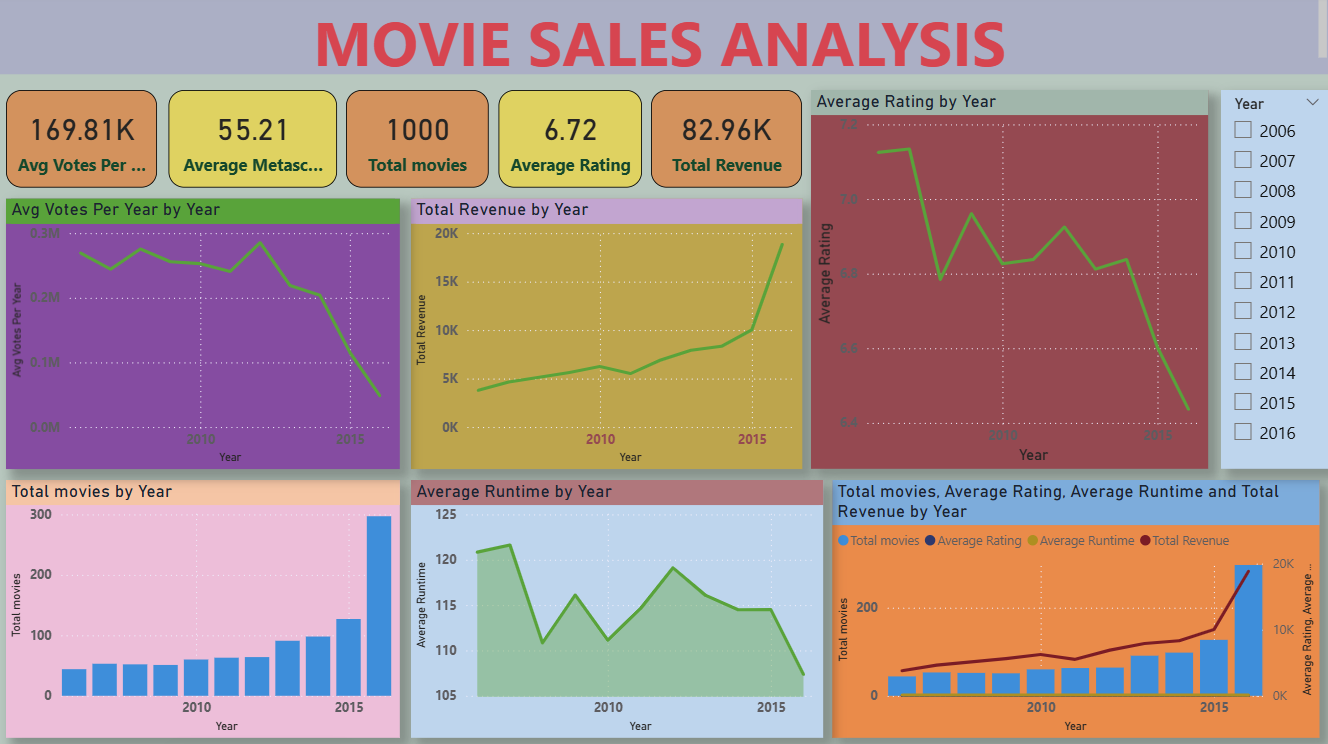

Layout of this report page (visuals, bound fields, positions):
{"tool":"powerbi","page":{"name":" Movie Overview & Time ","canvas":[1280,720],"ordinal":0},"visuals":[{"type":"card","fields":{"Values":["IMDB-Movie-Data.Total movies"]},"box":[335.6,91.1,136.6,93.5],"z":0},{"type":"card","fields":{"Values":["IMDB-Movie-Data.Total Revenue"]},"box":[628,91.1,145,93.5],"z":1000},{"type":"card","fields":{"Values":["IMDB-Movie-Data.Average Rating"]},"box":[481.8,91.1,137.8,93.5],"z":2000},{"type":"card","fields":{"Values":["IMDB-Movie-Data.Average Metascore"]},"box":[165.4,91.1,161.8,93.5],"z":3000},{"type":"card","fields":{"Values":["IMDB-Movie-Data.Avg Votes Per Year"]},"box":[9.6,91.1,145,93.5],"z":4000},{"type":"columnChart","fields":{"Category":["IMDB-Movie-Data.Year"],"Y":["IMDB-Movie-Data.Total movies"]},"box":[9.6,465,377.5,246.9],"z":5000},{"type":"lineChart","fields":{"Category":["IMDB-Movie-Data.Year"],"Y":["IMDB-Movie-Data.Total Revenue"]},"box":[397.9,195.4,375.1,258.9],"z":6000},{"type":"lineChart","fields":{"Category":["IMDB-Movie-Data.Year"],"Y":["IMDB-Movie-Data.Average Rating"]},"box":[781.4,91.1,381.1,363.1],"z":7000},{"type":"lineClusteredColumnComboChart","fields":{"Category":["IMDB-Movie-Data.Year"],"Y":["IMDB-Movie-Data.Total movies"],"Y2":["IMDB-Movie-Data.Average Rating","IMDB-Movie-Data.Average Runtime","IMDB-Movie-Data.Total Revenue"]},"box":[801.8,465,467.4,246.9],"z":8000},{"type":"areaChart","fields":{"Category":["IMDB-Movie-Data.Year"],"Y":["IMDB-Movie-Data.Average Runtime"]},"box":[397.9,465,395.5,246.9],"z":9000},{"type":"lineChart","fields":{"Category":["IMDB-Movie-Data.Year"],"Y":["IMDB-Movie-Data.Avg Votes Per Year"]},"box":[9.6,195.4,377.5,258.9],"z":10000},{"type":"slicer","fields":{"Values":["IMDB-Movie-Data.Year"]},"box":[1174.5,91.1,106.7,363.1],"z":11000},{"type":"textbox","box":[0,0,1280.6,75.6],"z":12000}]}

Visuals, with their boxes in screenshot pixels (x1, y1, x2, y2), scaled from the page's 1280x720 canvas onto the 1328x744 screenshot:
card - IMDB-Movie-Data.Total movies: select_region(348, 94, 490, 191)
card - IMDB-Movie-Data.Total Revenue: select_region(652, 94, 802, 191)
card - IMDB-Movie-Data.Average Rating: select_region(500, 94, 643, 191)
card - IMDB-Movie-Data.Average Metascore: select_region(172, 94, 339, 191)
card - IMDB-Movie-Data.Avg Votes Per Year: select_region(10, 94, 160, 191)
columnChart - IMDB-Movie-Data.Year x IMDB-Movie-Data.Total movies: select_region(10, 481, 402, 736)
lineChart - IMDB-Movie-Data.Year x IMDB-Movie-Data.Total Revenue: select_region(413, 202, 802, 469)
lineChart - IMDB-Movie-Data.Year x IMDB-Movie-Data.Average Rating: select_region(811, 94, 1206, 469)
lineClusteredColumnComboChart - IMDB-Movie-Data.Year x IMDB-Movie-Data.Total movies: select_region(832, 481, 1317, 736)
areaChart - IMDB-Movie-Data.Year x IMDB-Movie-Data.Average Runtime: select_region(413, 481, 823, 736)
lineChart - IMDB-Movie-Data.Year x IMDB-Movie-Data.Avg Votes Per Year: select_region(10, 202, 402, 469)
slicer - IMDB-Movie-Data.Year: select_region(1219, 94, 1327, 469)
textbox: select_region(0, 0, 1327, 78)
